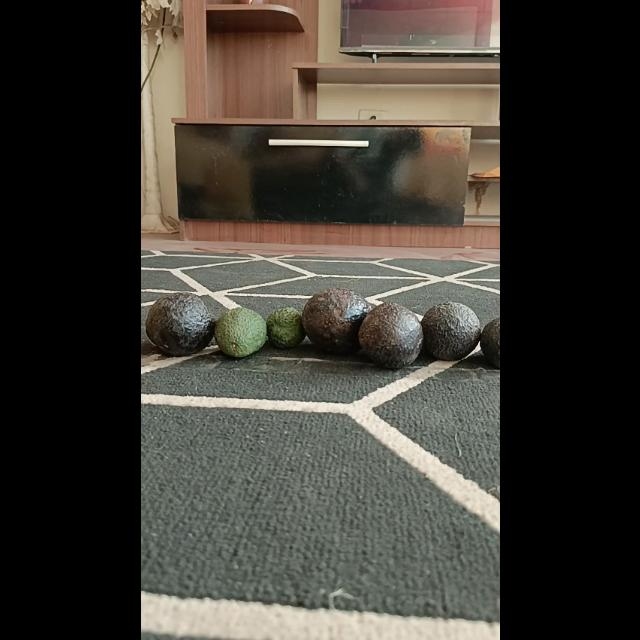Primera: (300, 288, 372, 354), (144, 293, 214, 357), (357, 302, 423, 368), (420, 302, 480, 361)
Segunda: (213, 306, 267, 358)
Tercera: (264, 307, 304, 347)
